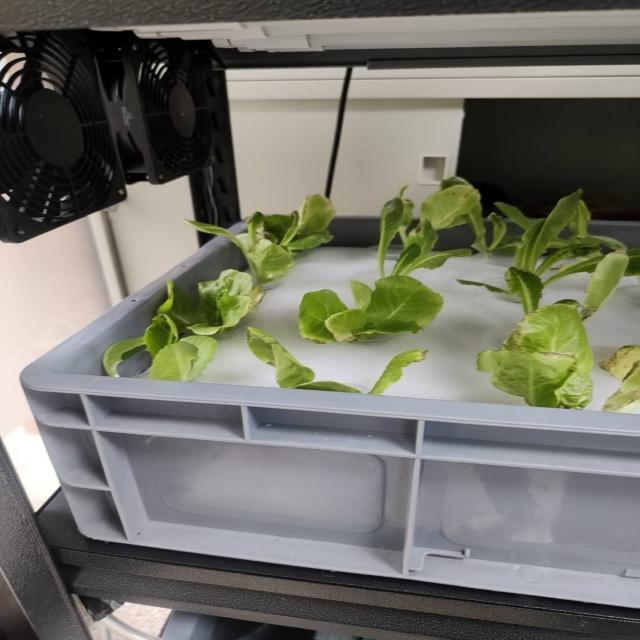Lettuce-Not-Ready-to-Harvest: (477, 300, 593, 409), (247, 328, 426, 394), (298, 275, 443, 342), (378, 188, 470, 277), (537, 200, 627, 286), (103, 314, 218, 381), (187, 212, 293, 284), (158, 269, 265, 335), (515, 190, 582, 272), (263, 195, 335, 253), (458, 266, 543, 313), (580, 250, 630, 319), (467, 205, 520, 258), (598, 345, 640, 411), (420, 185, 480, 230)
